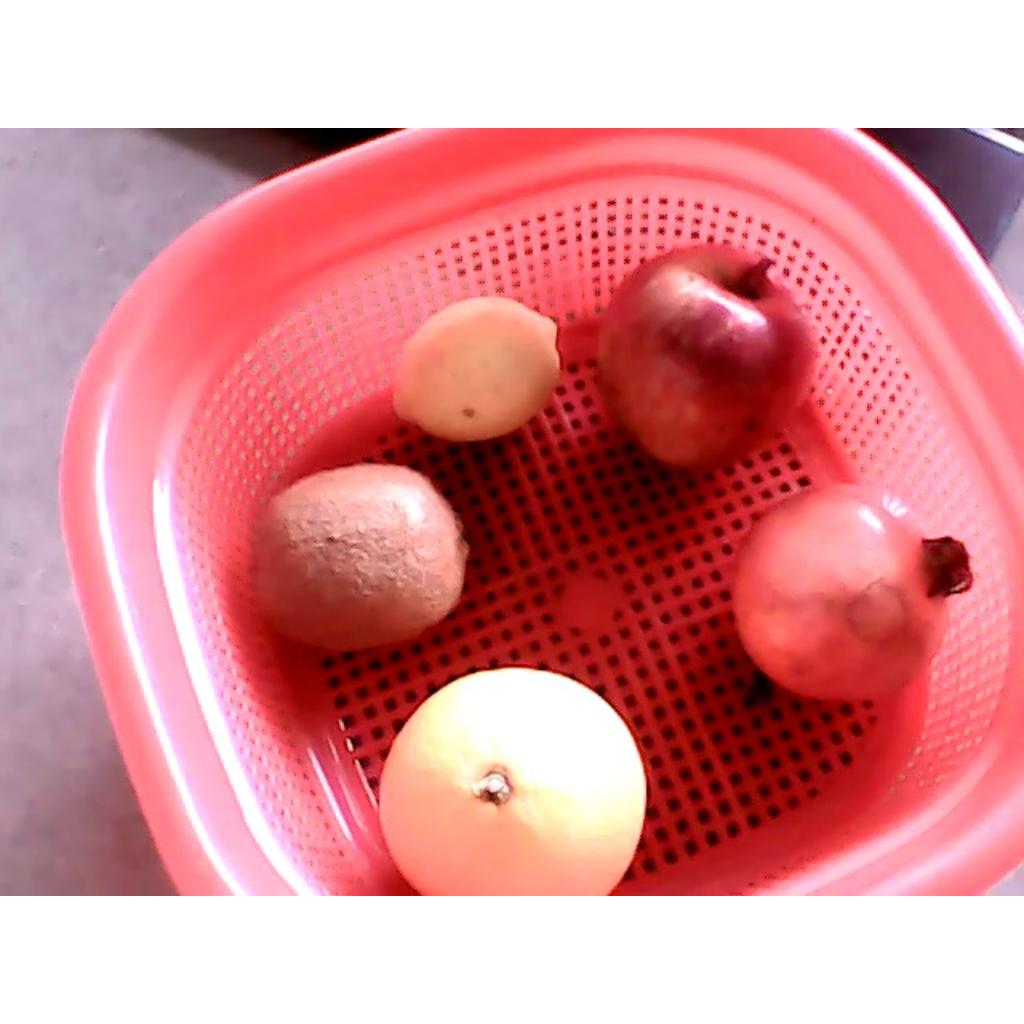apple: (597, 242, 822, 468)
kiwi: (244, 465, 466, 653)
lemon: (392, 296, 560, 442)
orange: (379, 666, 652, 894)
pomegranate: (729, 482, 973, 702)
